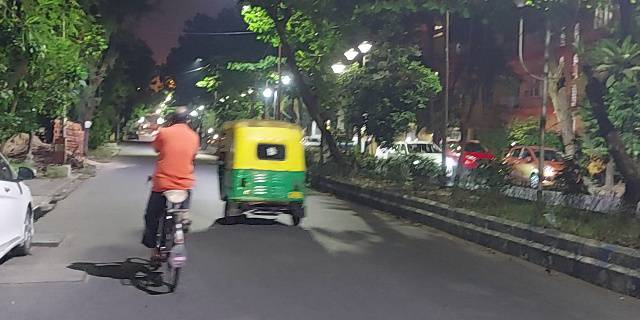Autorickshaw: (217, 118, 305, 226)
Cycle: (144, 107, 193, 291)
